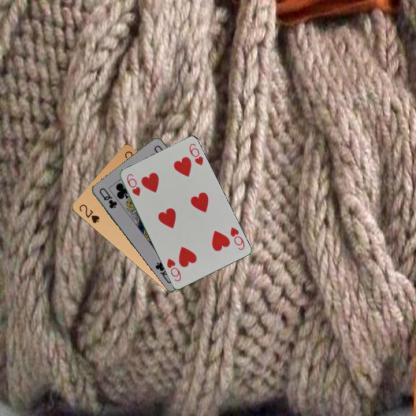2s: (76, 201, 101, 224)
6h: (227, 224, 246, 252), (124, 171, 141, 198)
Qc: (97, 185, 119, 210)
